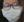with_mask: (1, 2, 24, 22)
